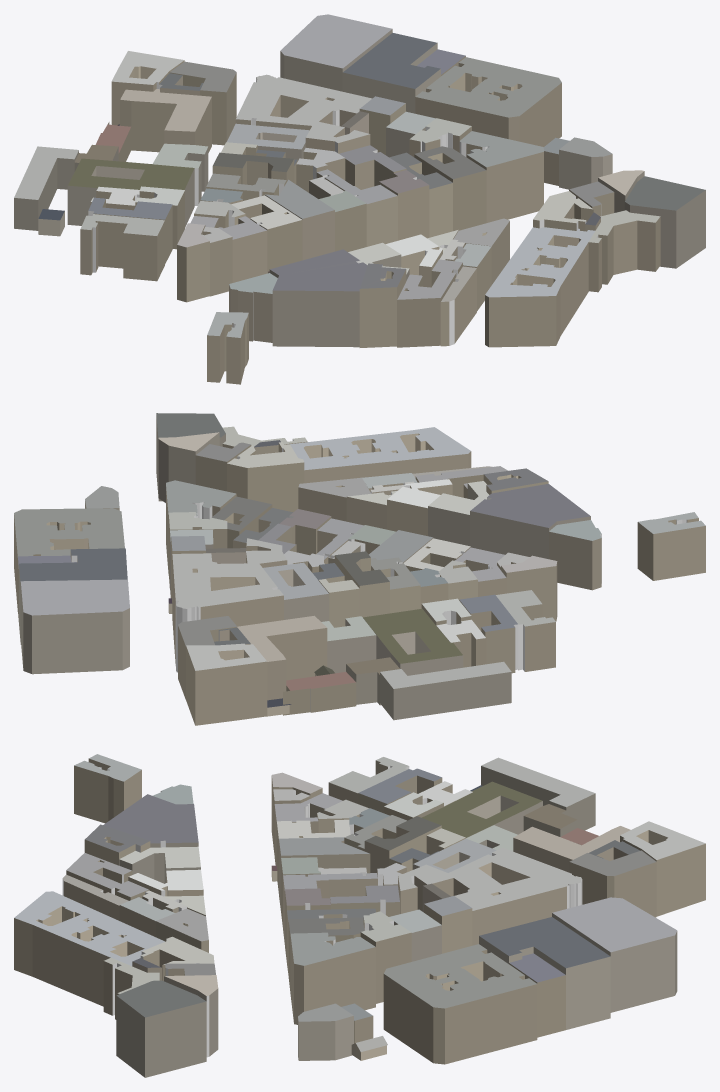
The picture shows the model from 3 angles, top to bottom: view 1: azimuth 30°, elevation 25°; view 2: azimuth 150°, elevation 25°; view 3: azimuth 270°, elevation 25°; orthographic projection. The views are drawn at different scales.
Visible parts, largest first — view 1: tuile; view 2: tuile; view 3: tuile.
Part boxes in pixels (bbox=[...]): tuile: bbox=[14, 14, 705, 384]; tuile: bbox=[14, 413, 705, 725]; tuile: bbox=[14, 754, 705, 1077].
Size of the model in its own units: 262 by 37.66 by 289.
